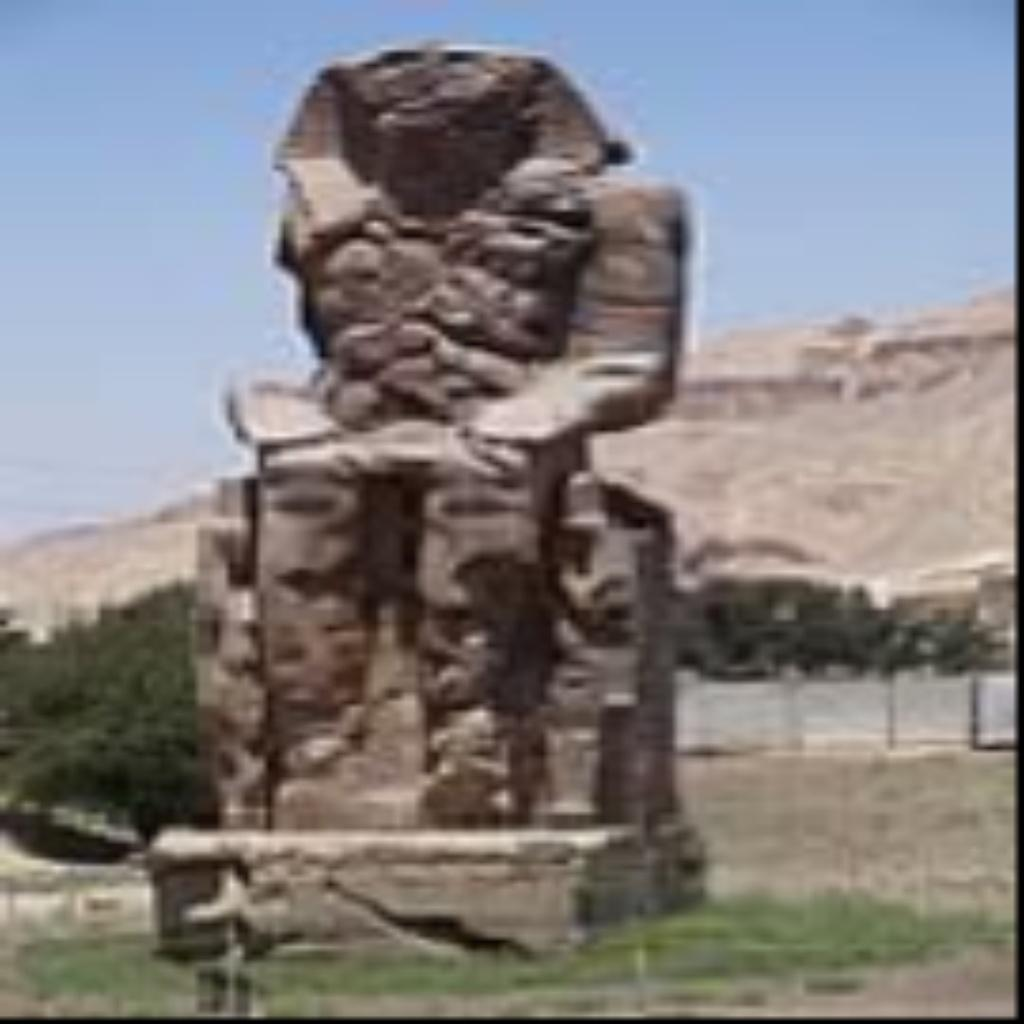Colossoi of Memnon: (182, 34, 705, 836)
